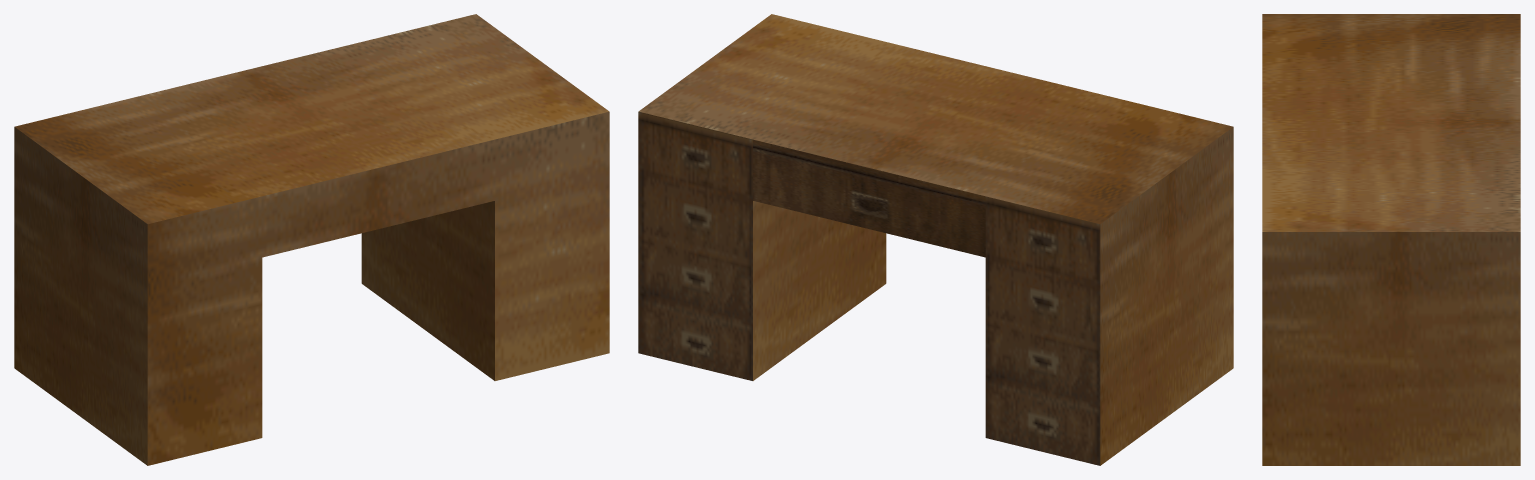
File: desk.fbx
3 renders of one model, left to right at view 1: azimuth 30°, elevation 25°; view 2: azimuth 150°, elevation 25°; view 3: azimuth 270°, elevation 25°, orthographic. The views are drawn at different scales.
Parts seen in each view (by area): view 1: Desk; view 2: Desk; view 3: Desk.
Part boxes in pixels (x1,y1,x2,y2): Desk: [14, 14, 609, 465]; Desk: [638, 14, 1233, 465]; Desk: [1262, 14, 1520, 465].
Bounding box in the file's own units: 75 × 150 × 75.
